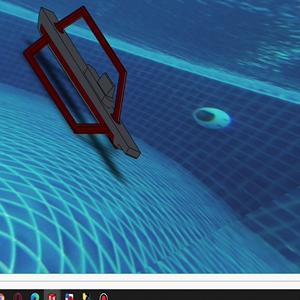submarine: (22, 6, 145, 157)
